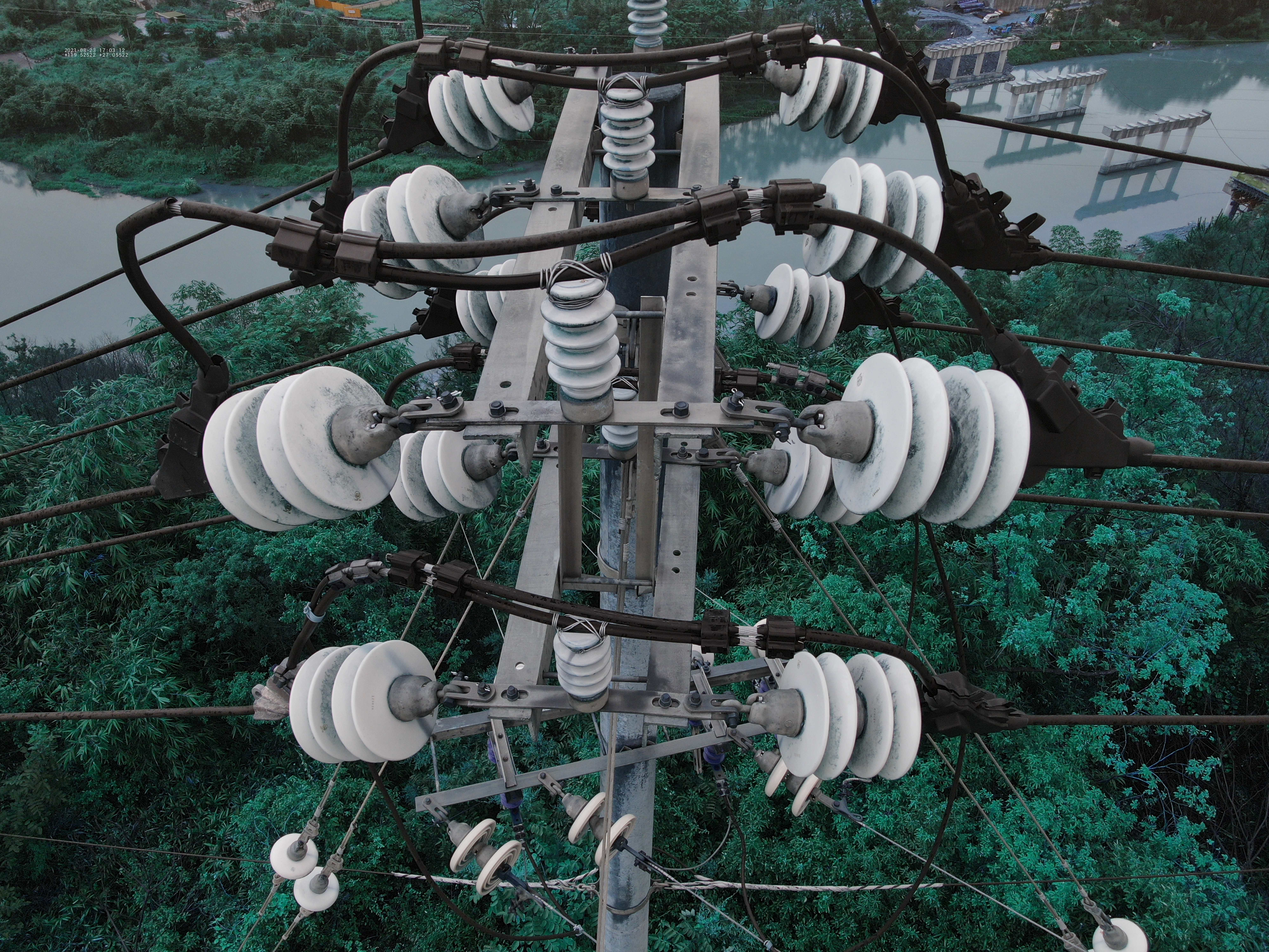severe_soiling_no_discharge_whole: (796, 351, 1032, 527), (201, 364, 404, 535), (743, 642, 923, 786), (339, 160, 494, 304), (785, 157, 941, 295), (286, 634, 442, 769), (753, 27, 883, 145), (423, 52, 548, 157), (539, 266, 620, 428), (387, 426, 508, 524), (746, 432, 862, 529), (736, 263, 848, 352), (596, 72, 658, 199), (551, 611, 614, 714), (452, 254, 517, 349), (623, 0, 669, 54)
